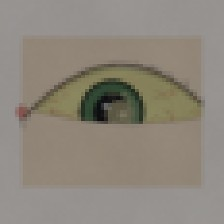corneal_ulcer: (97, 96, 143, 132)
